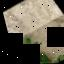Carpet weed: (4, 13, 64, 64)
